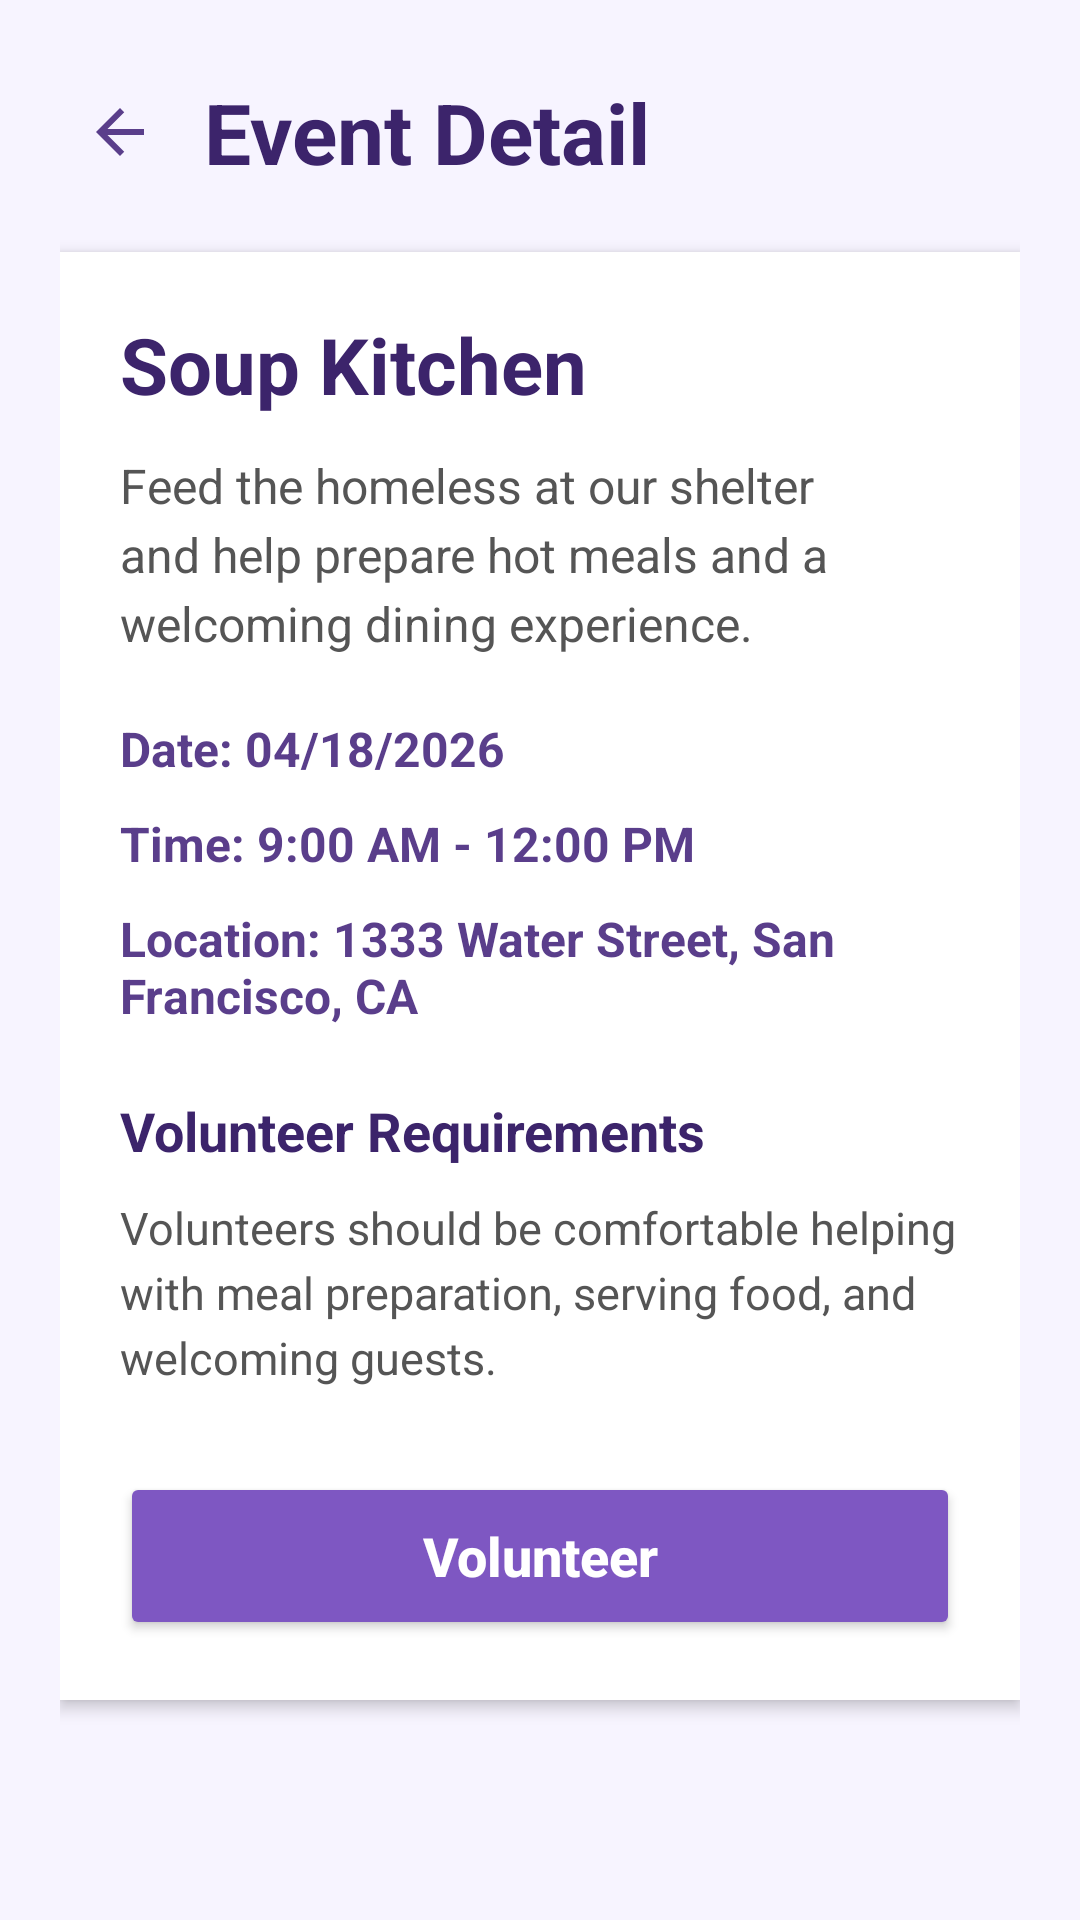

Icons on this 1080*1920 Android screen, each with its box as (x1, y1, x2, y2):
Back: (96, 108, 144, 156)
